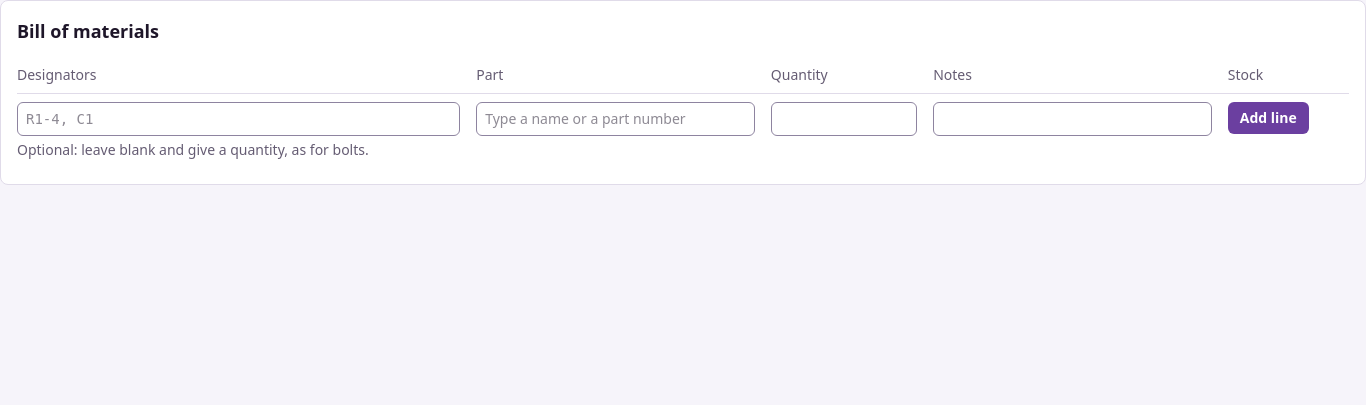
Scenario: BomAddRow › keeps what is typed for the next line while the first is still on its way
Click the field named "Designators": click(239, 119) [17,102,460,136]
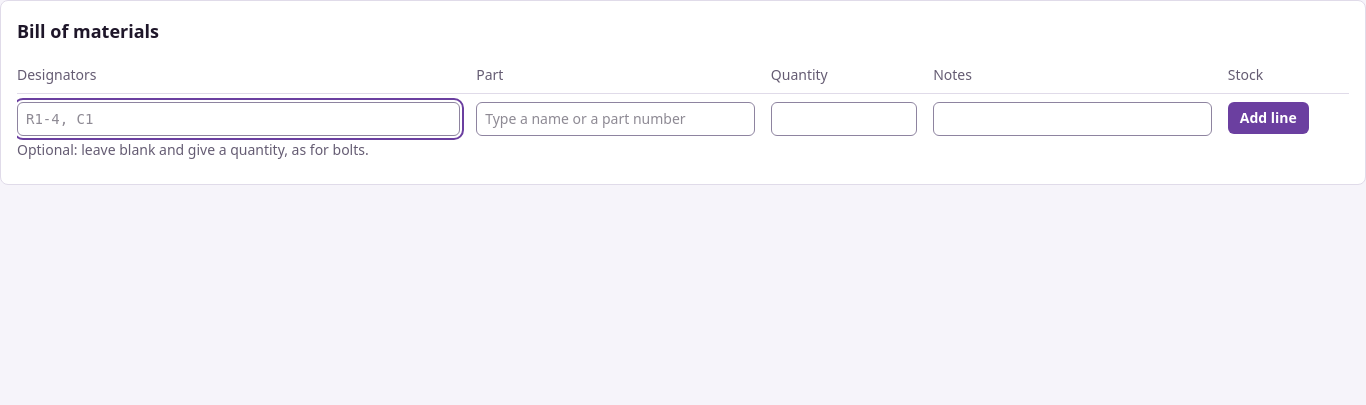
Type keys "r1-4"
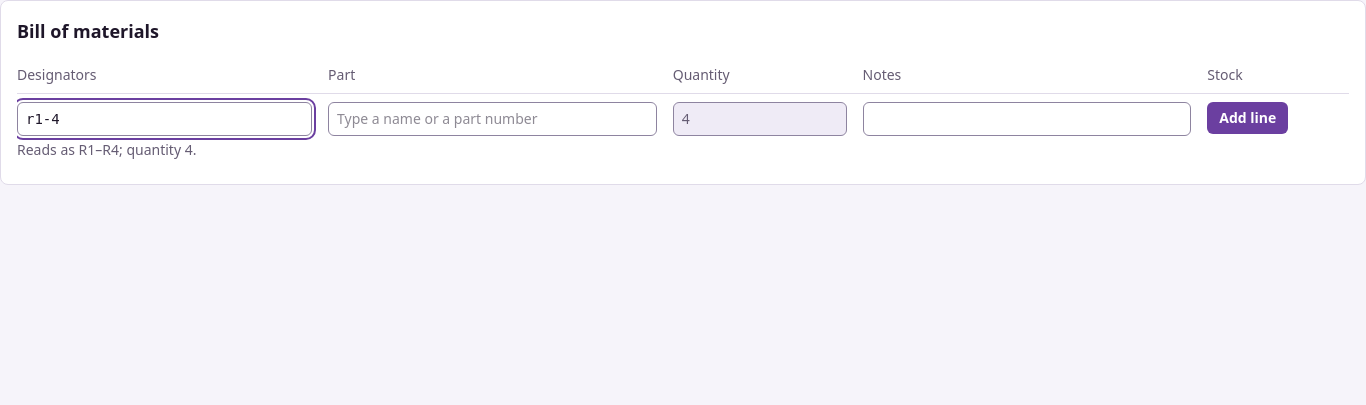
In the dropdown labelled "part": (492, 119) [328,102,657,136], type "4.7"
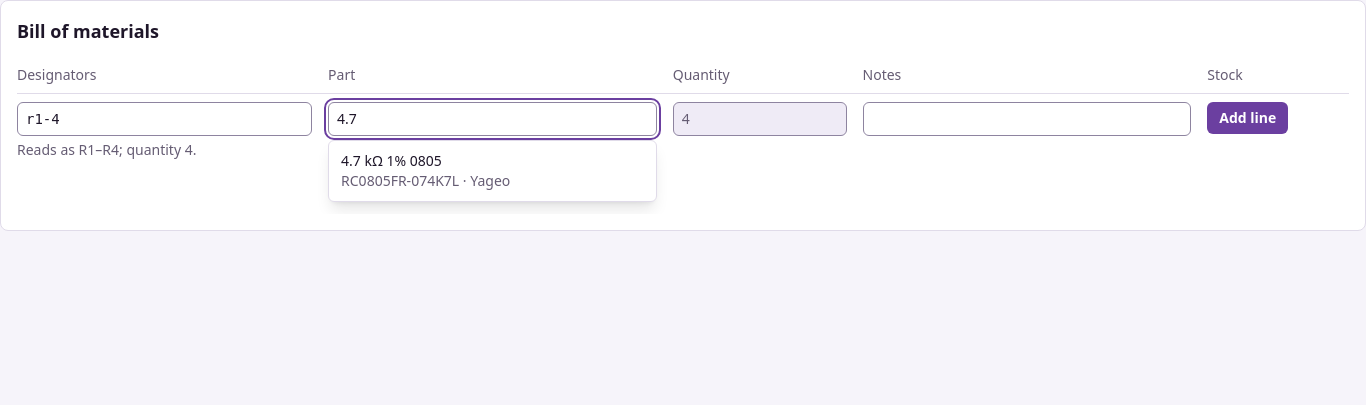
Press Arrowdown
Press Enter
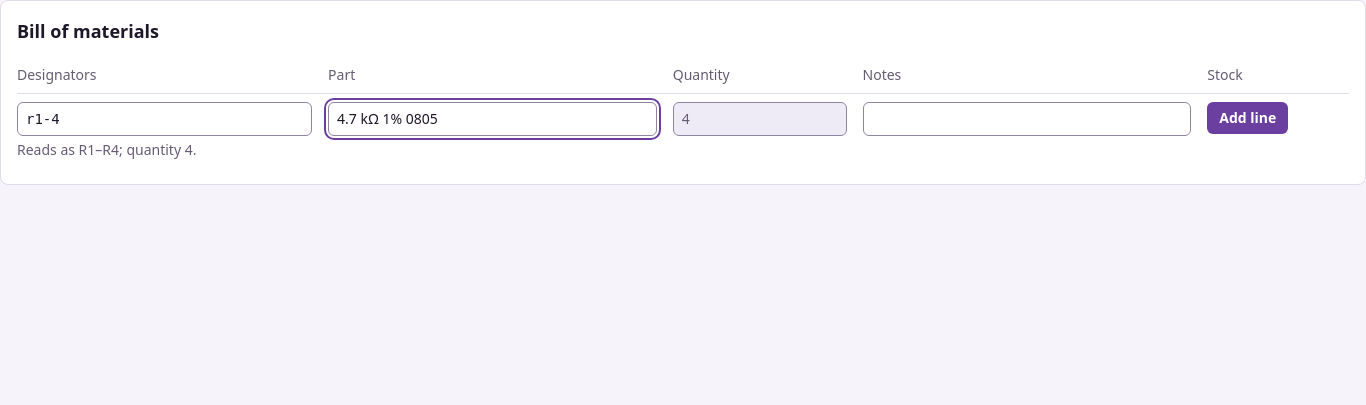
Press Enter
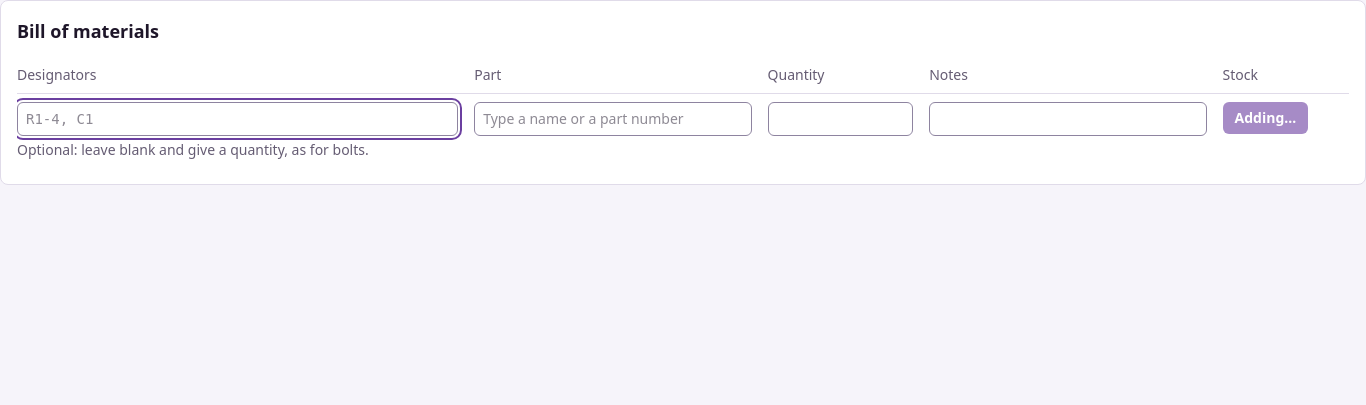
Type keys "c1"
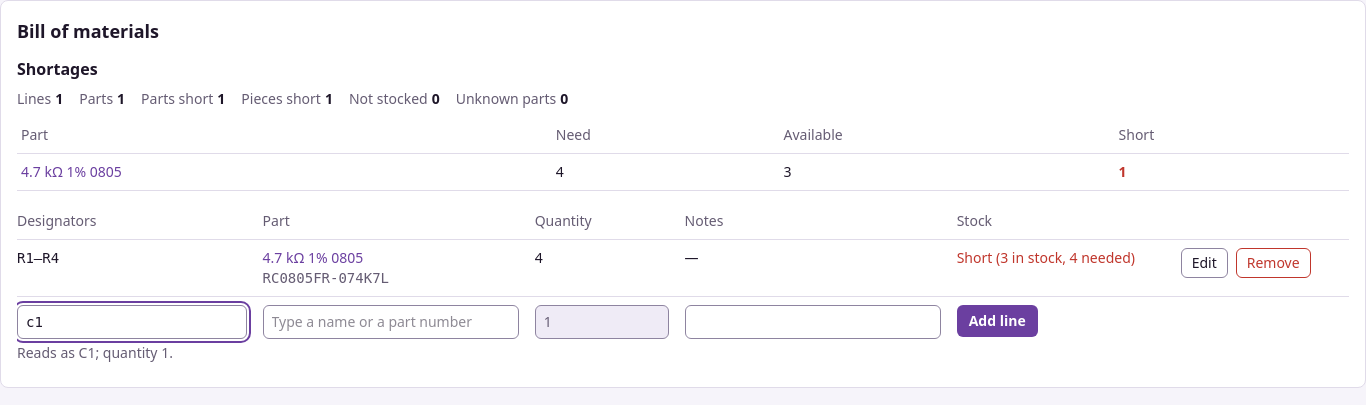
Now the row "R1–R4" is shown, box [17,240,1349,296]
Now the field named "Designators" holds "c1", box [17,305,247,339]
